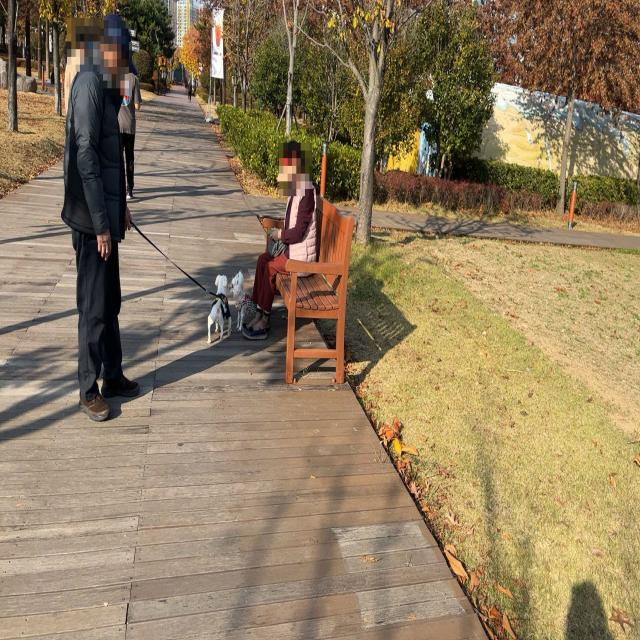Leashed_Dog: (104, 210, 232, 346), (229, 264, 271, 333)
